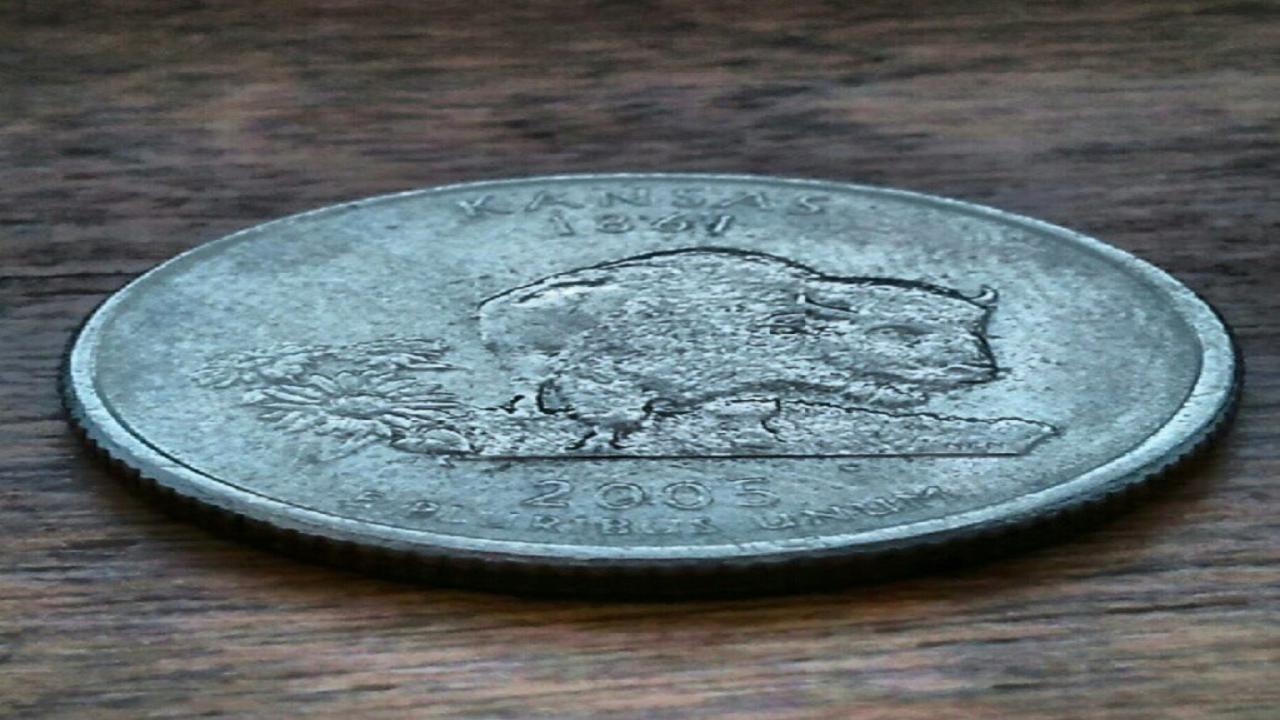coin: (60, 172, 1244, 596)
